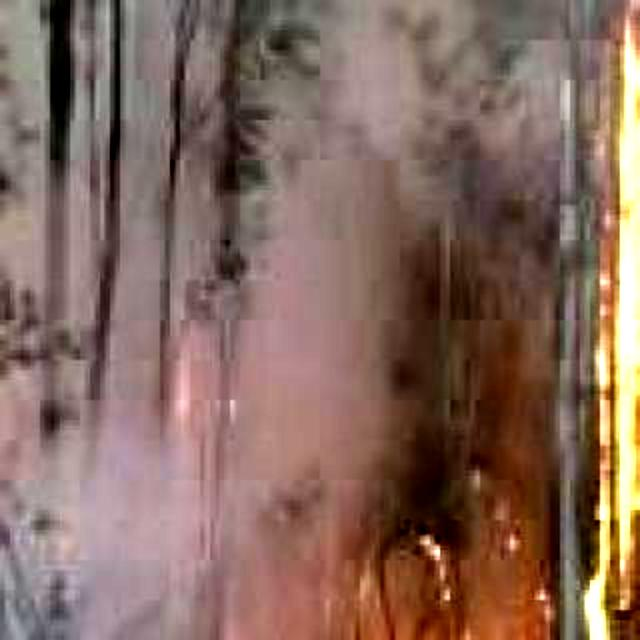smoke: (0, 192, 230, 640)
